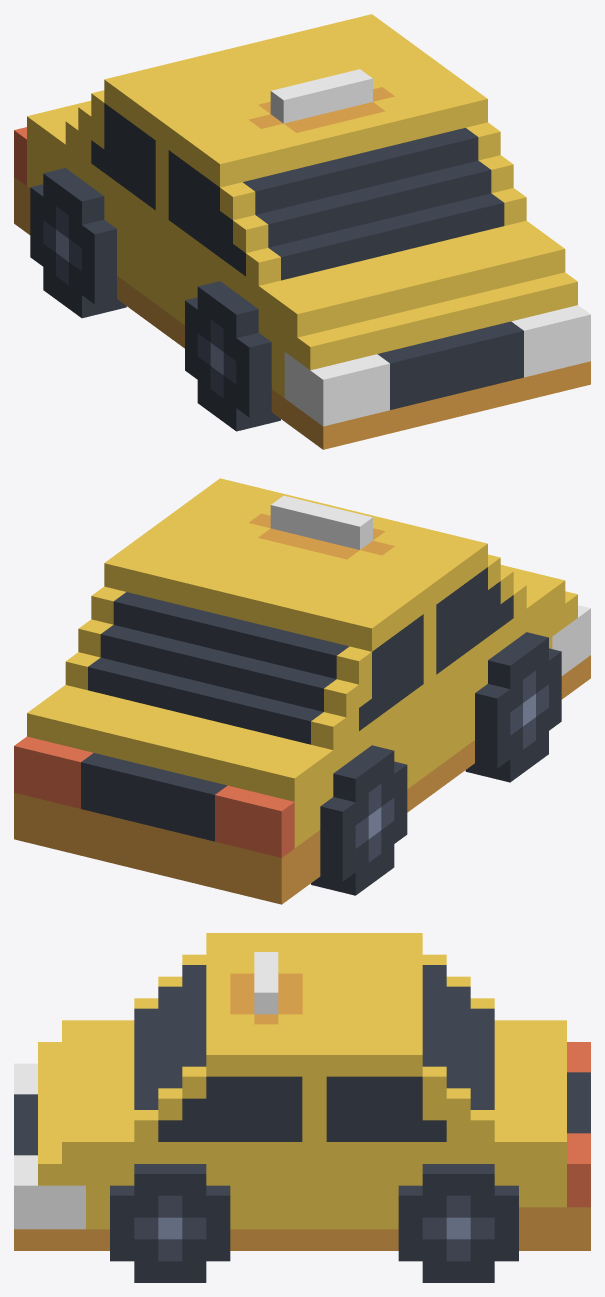
File: taxi-3d-3.glb
3 views of the same model, one above another, from view 1: azimuth 30°, elevation 25°; view 2: azimuth 150°, elevation 25°; view 3: azimuth 270°, elevation 25° (orthographic). The views are drawn at different scales.
Visible parts, largest first — view 1: entity_2; view 2: entity_2; view 3: entity_2.
Part boxes in pixels (left/top/right/bottom): entity_2: left=14, top=14, right=590, bottom=449; entity_2: left=14, top=478, right=590, bottom=904; entity_2: left=14, top=933, right=590, bottom=1282.
Size of the model in its own units: 1.4 by 1.1 by 2.4.
Materials: 1 (1 with a texture image).
